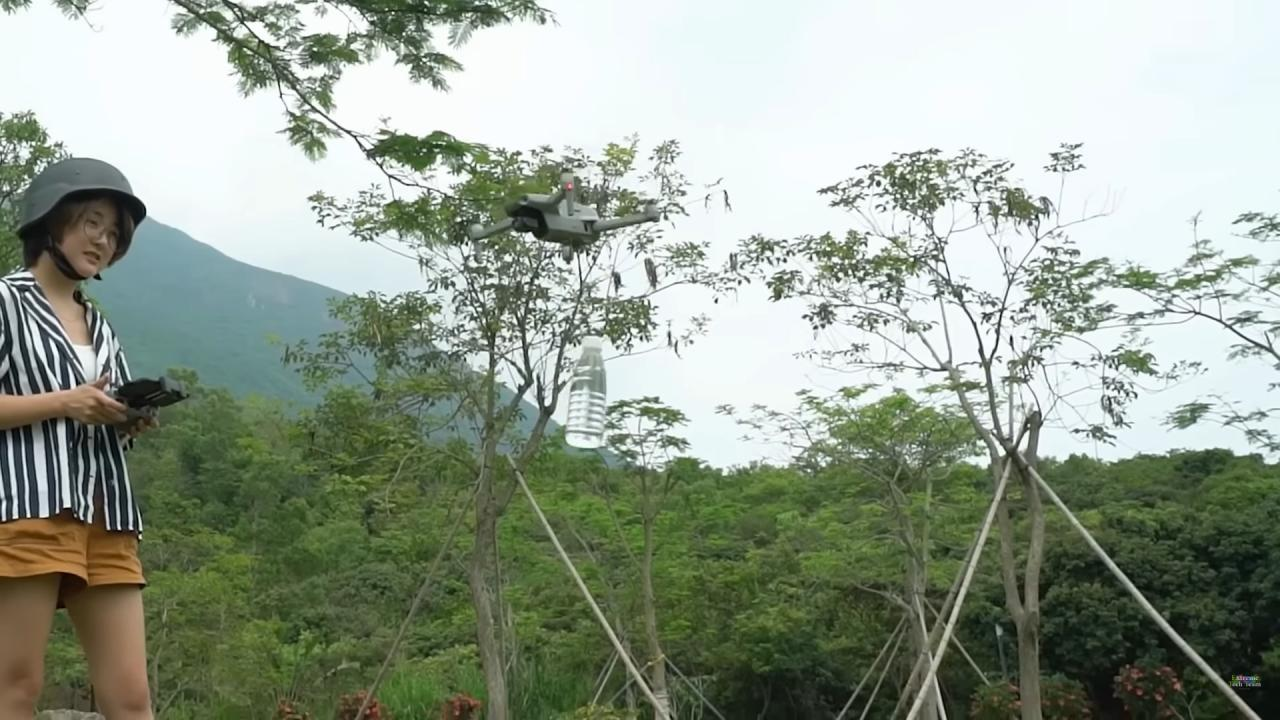Drone: (452, 161, 673, 271)
